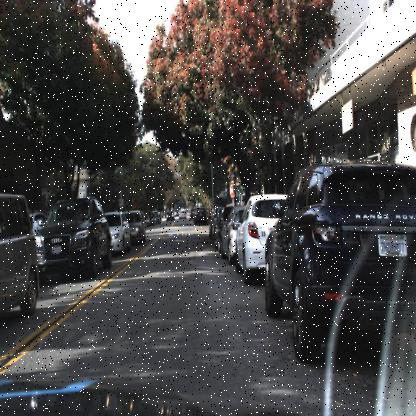car: (260, 154, 415, 374), (33, 195, 113, 280), (233, 190, 290, 289), (0, 194, 41, 328), (231, 190, 272, 290), (108, 207, 134, 258), (221, 205, 241, 261), (103, 211, 129, 254), (129, 207, 147, 248)
